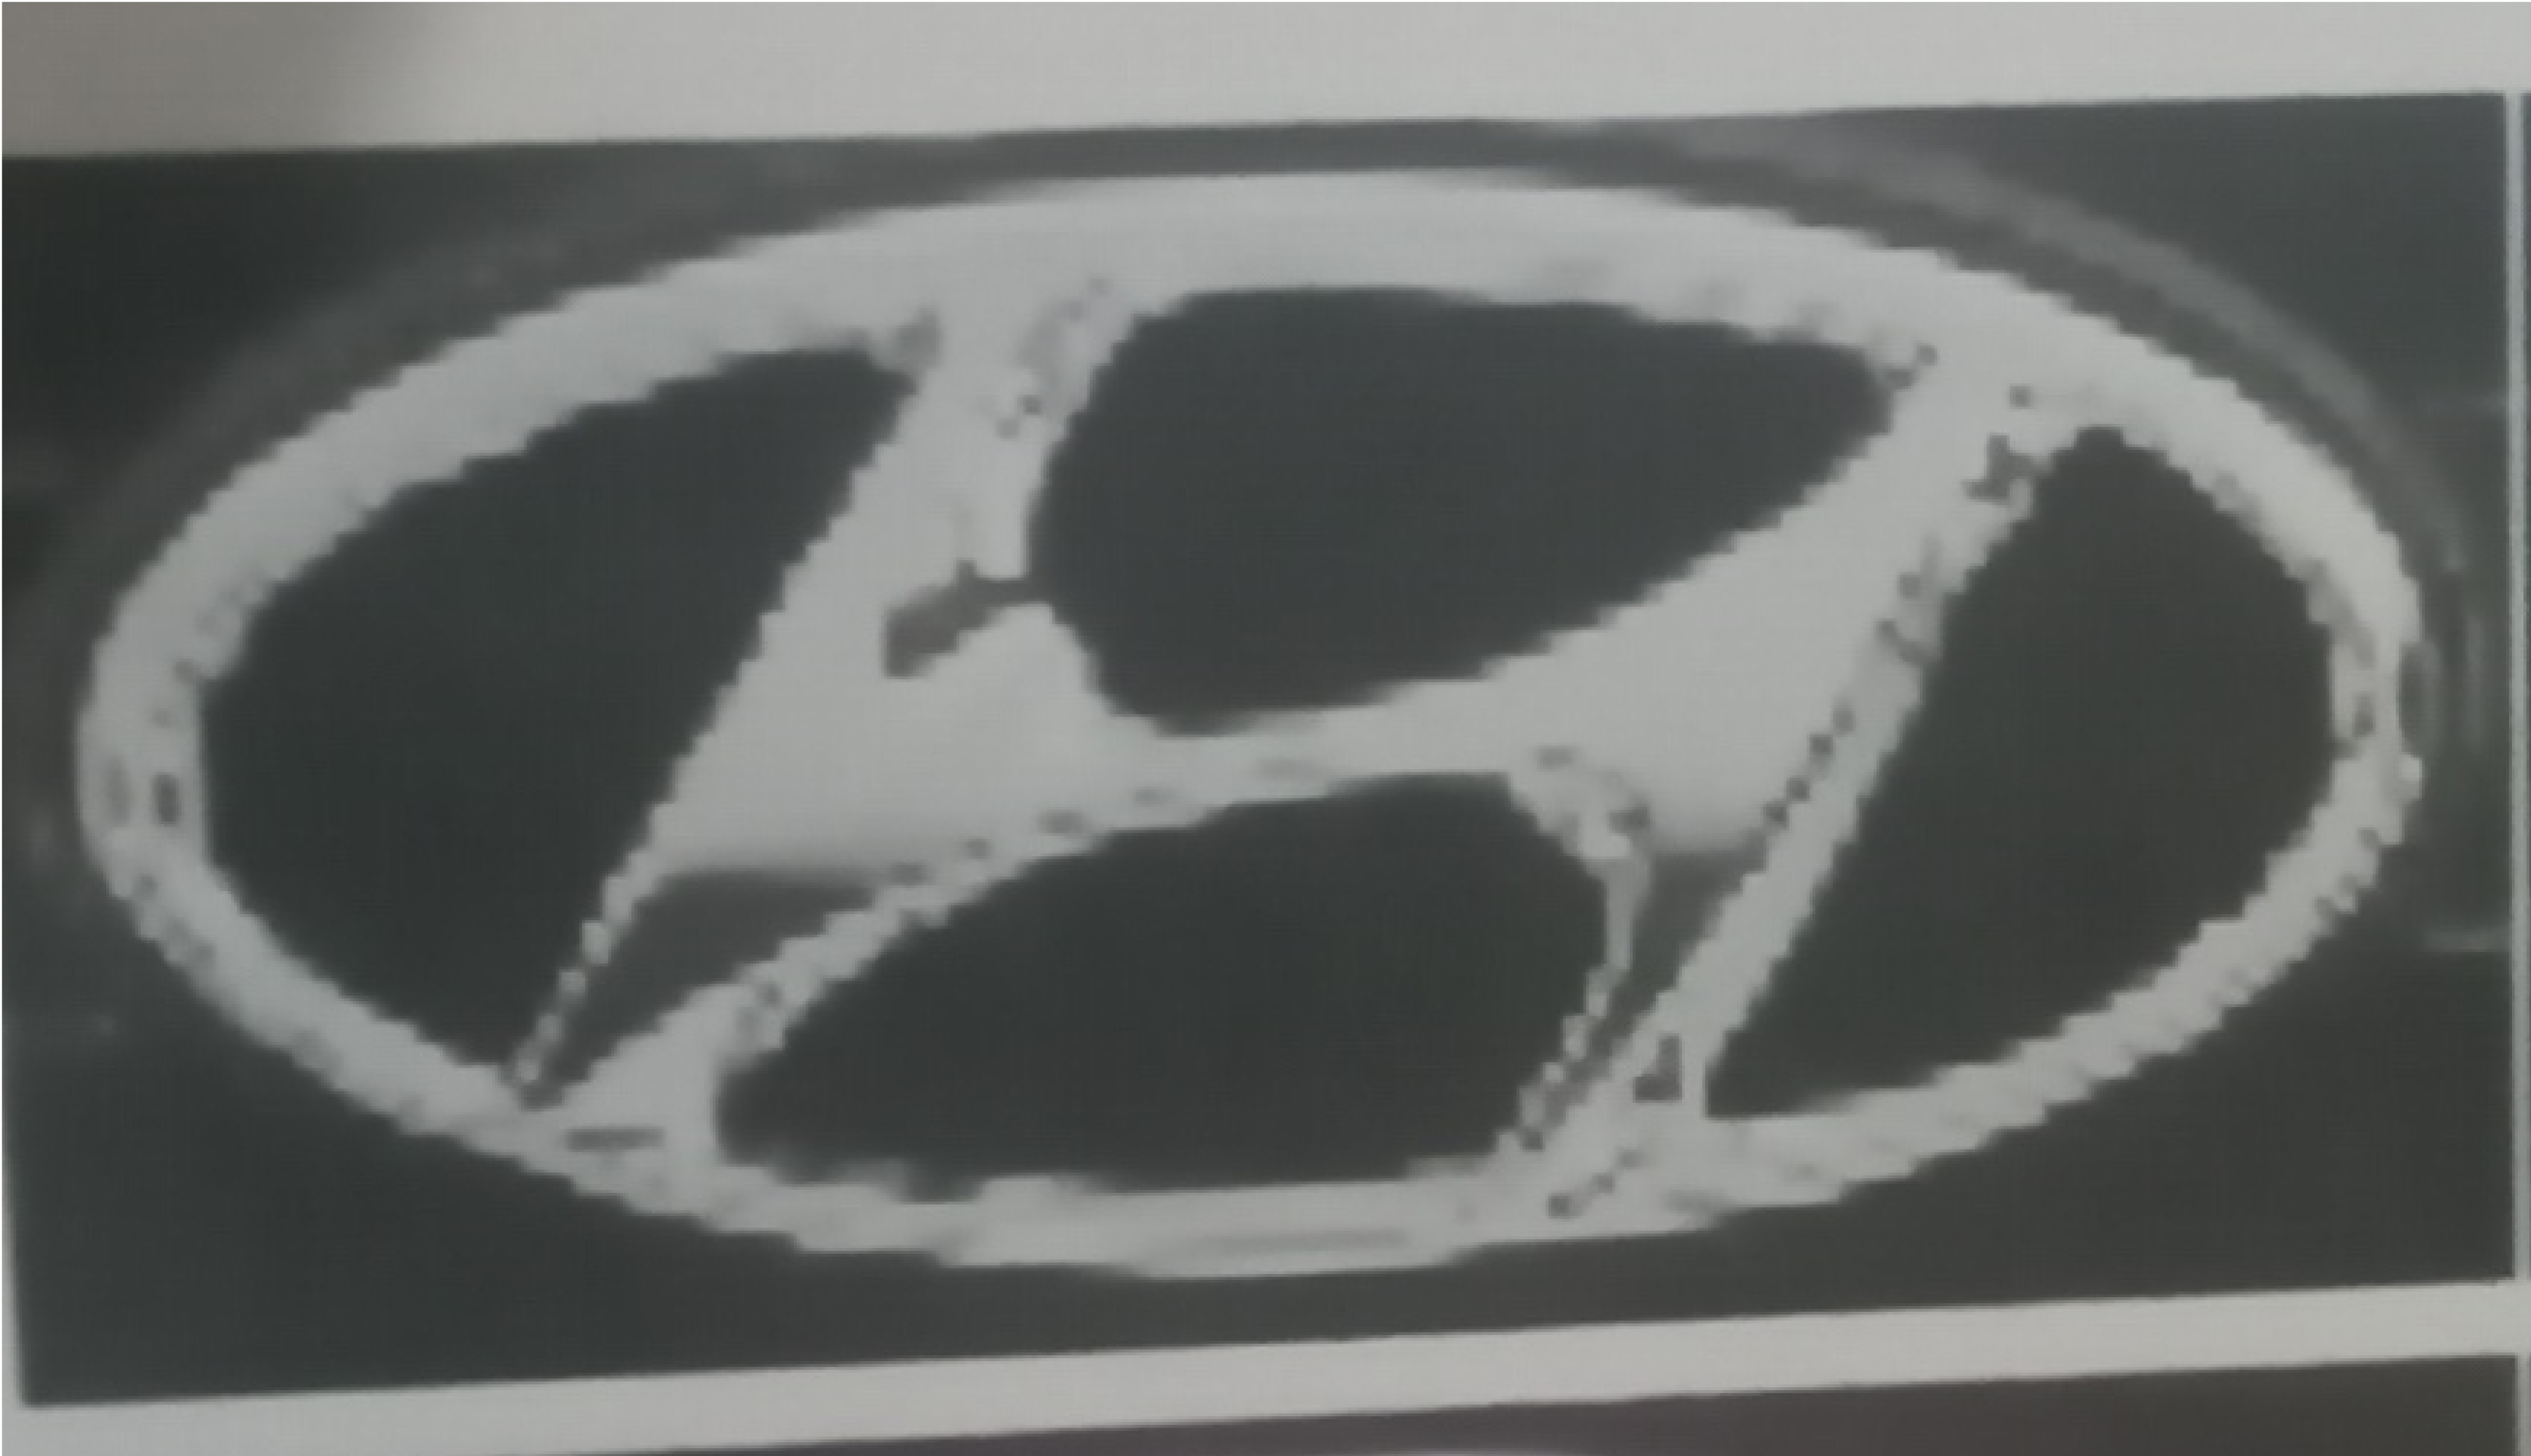Hyundai: (42, 149, 2470, 1305)
